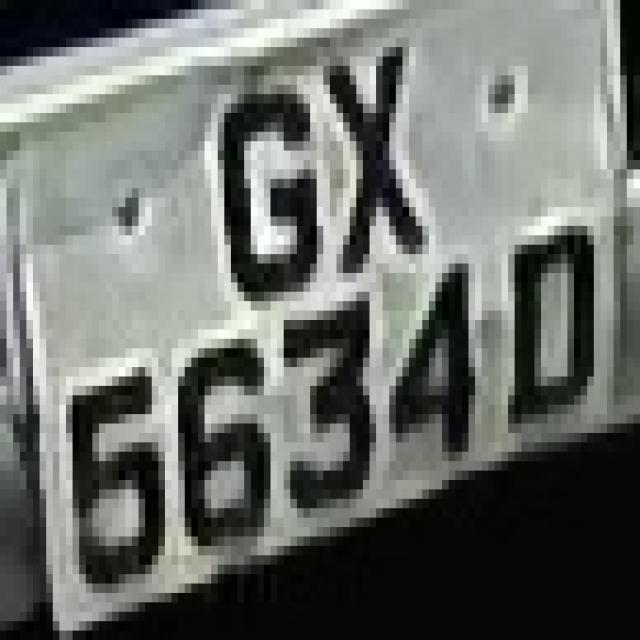3: (257, 292, 383, 536)
4: (383, 244, 495, 470)
5: (66, 339, 178, 593)
6: (165, 320, 297, 593)
D: (508, 198, 620, 442)
G: (198, 28, 317, 320)
X: (330, 38, 442, 301)
